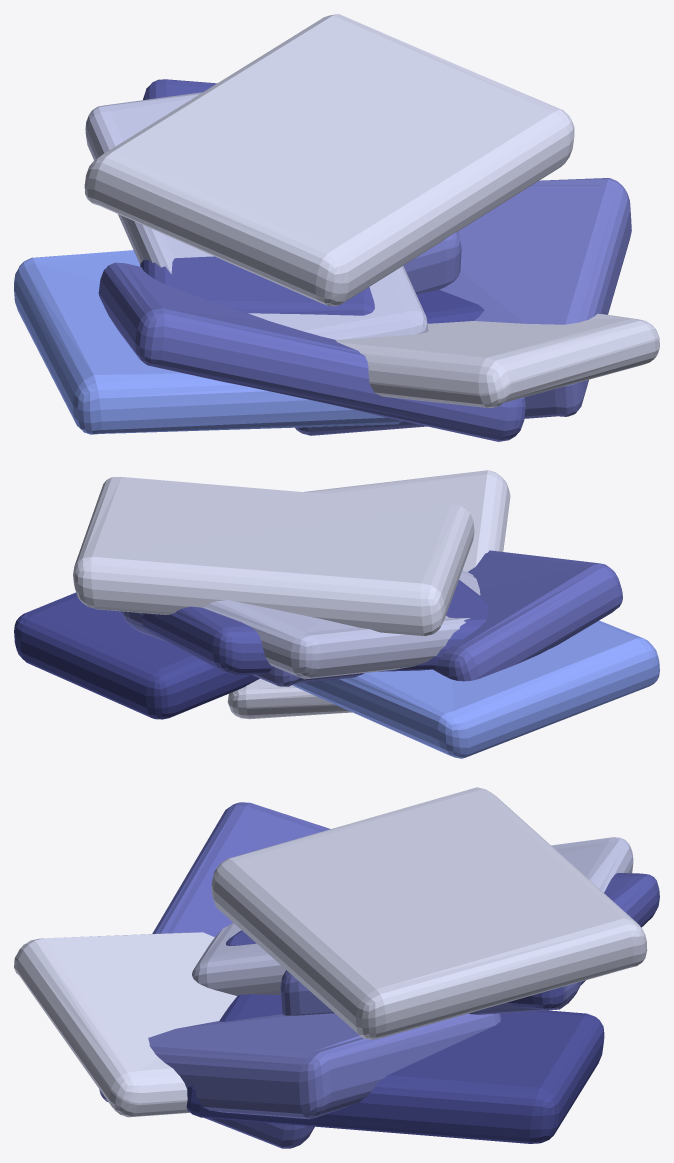
Rendered from laundryPile.glb.
3 renders of one model, top to bottom at view 1: azimuth 30°, elevation 25°; view 2: azimuth 150°, elevation 25°; view 3: azimuth 270°, elevation 25°, orthographic. The views are drawn at different scales.
Visible parts, largest first — view 1: cloth8, cloth4, cloth3, cloth1, cloth2, cloth5, cloth6, cloth7, cloth0; view 2: cloth8, cloth4, cloth0, cloth3, cloth5, cloth2, cloth6, cloth7; view 3: cloth8, cloth0, cloth2, cloth1, cloth3, cloth5, cloth6, cloth7.
Boxes of the visible parts, left/top/right/bottom form: cloth8: left=84, top=14, right=574, bottom=306; cloth4: left=14, top=250, right=402, bottom=434; cloth3: left=98, top=262, right=525, bottom=441; cloth1: left=295, top=178, right=631, bottom=435; cloth2: left=336, top=313, right=659, bottom=408; cloth5: left=85, top=92, right=428, bottom=339; cloth6: left=140, top=79, right=374, bottom=315; cloth7: left=403, top=231, right=461, bottom=294; cloth0: left=416, top=290, right=605, bottom=323; cloth8: left=73, top=477, right=474, bottom=636; cloth4: left=292, top=620, right=659, bottom=758; cloth0: left=14, top=592, right=259, bottom=719; cloth3: left=433, top=550, right=622, bottom=681; cloth5: left=203, top=570, right=480, bottom=679; cloth2: left=227, top=470, right=510, bottom=719; cloth6: left=121, top=580, right=488, bottom=674; cloth7: left=122, top=611, right=363, bottom=686; cloth8: left=211, top=787, right=647, bottom=1039; cloth0: left=186, top=994, right=604, bottom=1143; cloth2: left=14, top=932, right=236, bottom=1117; cloth1: left=99, top=1013, right=501, bottom=1119; cloth3: left=152, top=802, right=330, bottom=1148; cloth5: left=192, top=837, right=633, bottom=995; cloth6: left=226, top=873, right=659, bottom=1009; cloth7: left=280, top=970, right=582, bottom=1015.
Size of the model in its own units: 0.7155 by 0.2984 by 0.7073.
